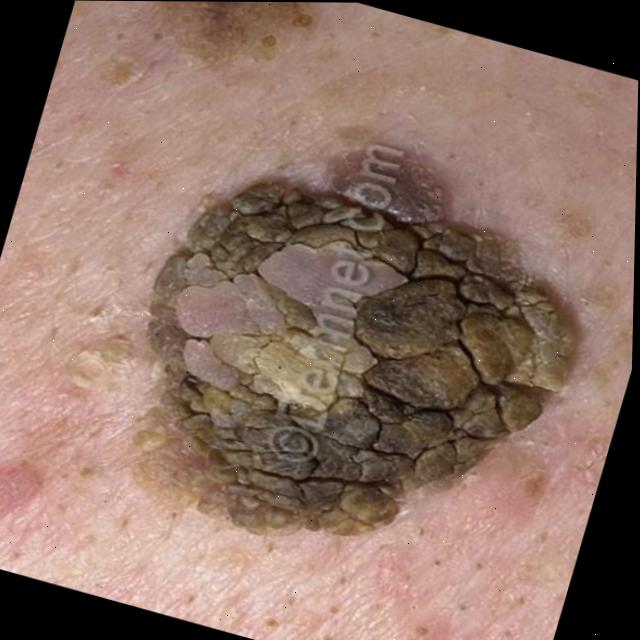Eczema: (122, 130, 607, 568), (129, 1, 332, 67)
